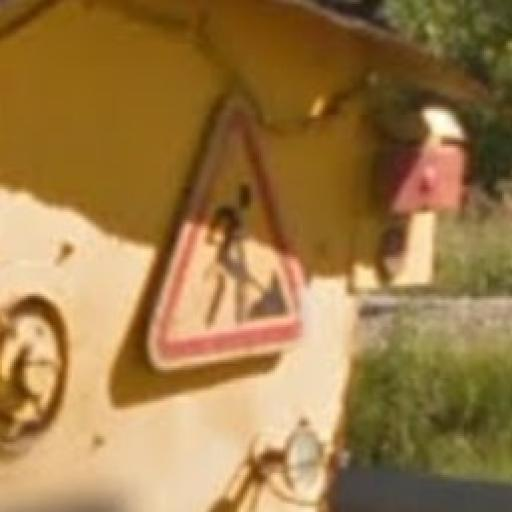traffic_sign: (144, 92, 310, 376)
